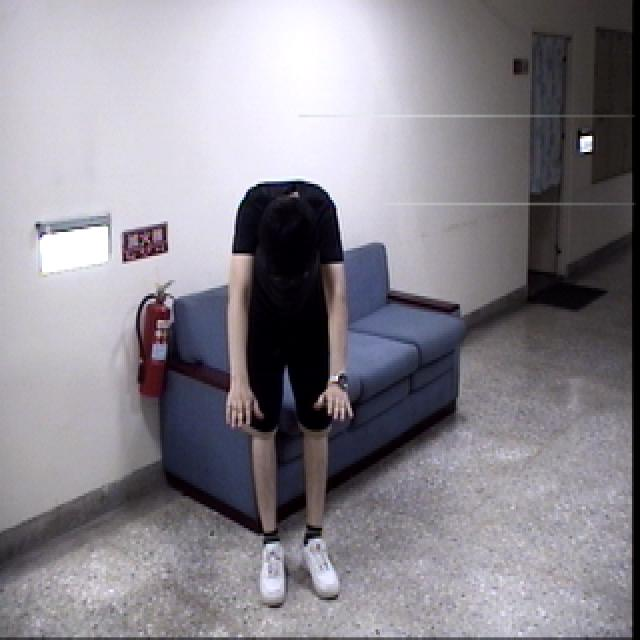bend: (220, 172, 353, 620)
